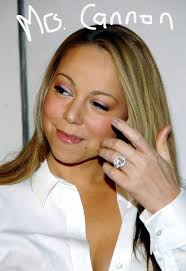mole: (83, 144, 88, 150)
